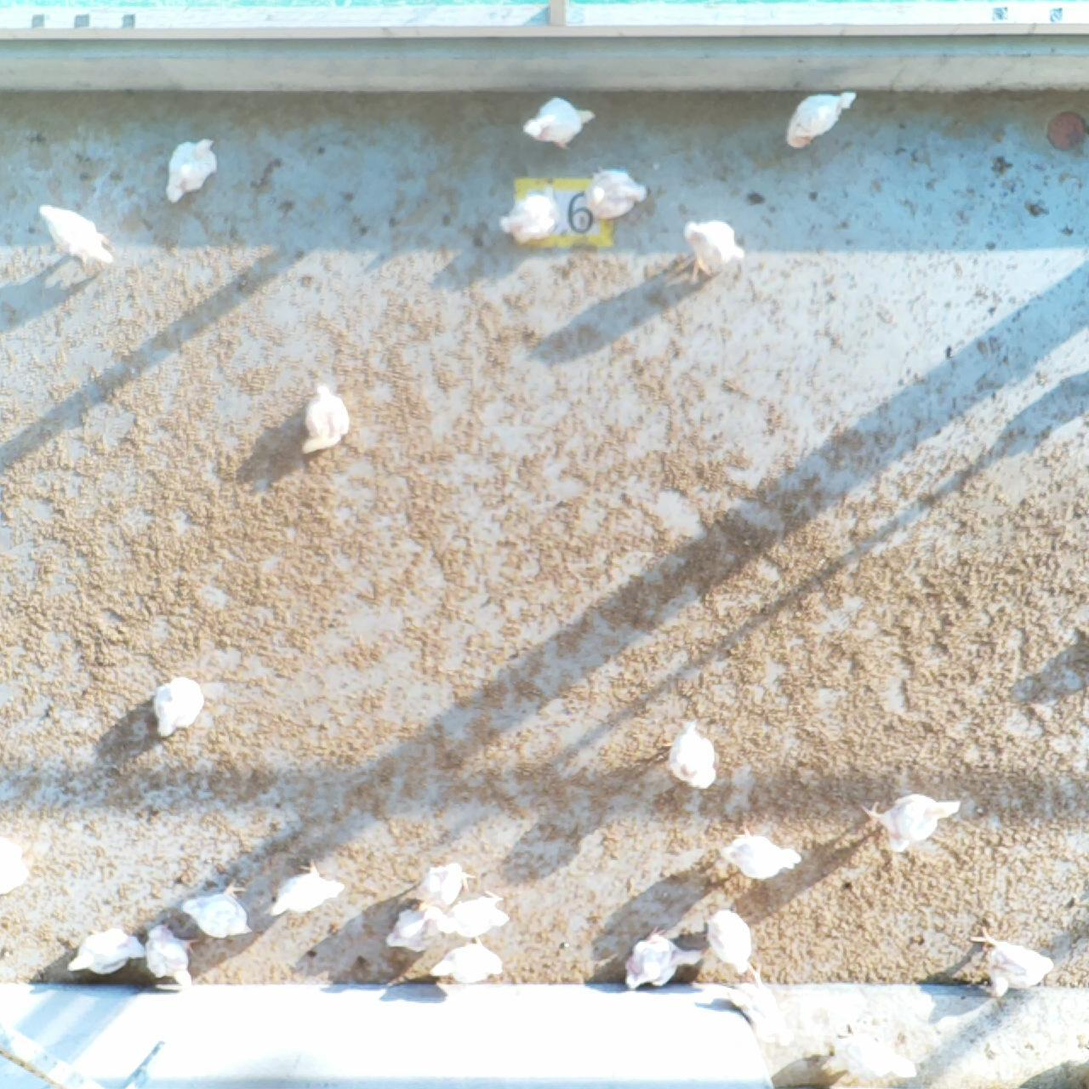chicken: (979, 927, 1055, 1001), (864, 798, 955, 851), (787, 85, 857, 152), (173, 883, 254, 939), (43, 203, 111, 268), (622, 939, 707, 990), (834, 1032, 926, 1079), (63, 927, 144, 980), (162, 133, 223, 200), (264, 869, 352, 914), (707, 910, 761, 981), (301, 385, 350, 463), (723, 840, 808, 880), (685, 219, 746, 274), (583, 171, 650, 221), (528, 100, 600, 145), (670, 723, 715, 792), (144, 925, 193, 988), (408, 864, 475, 906), (389, 905, 446, 953), (154, 679, 200, 738), (434, 949, 510, 981), (443, 895, 507, 933), (503, 196, 554, 239)
